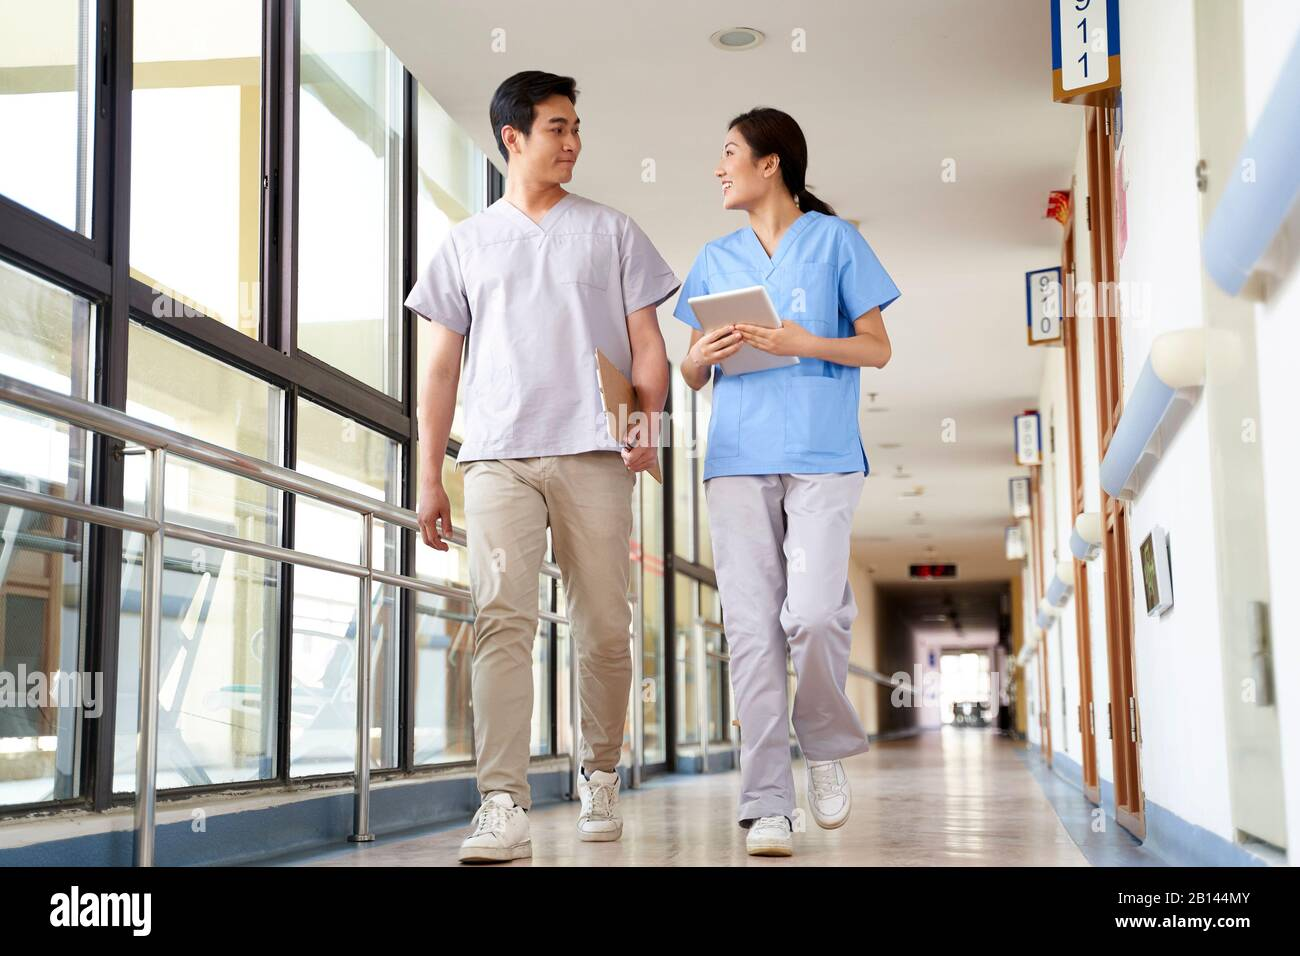person: (413, 71, 673, 858), (676, 105, 892, 846)
